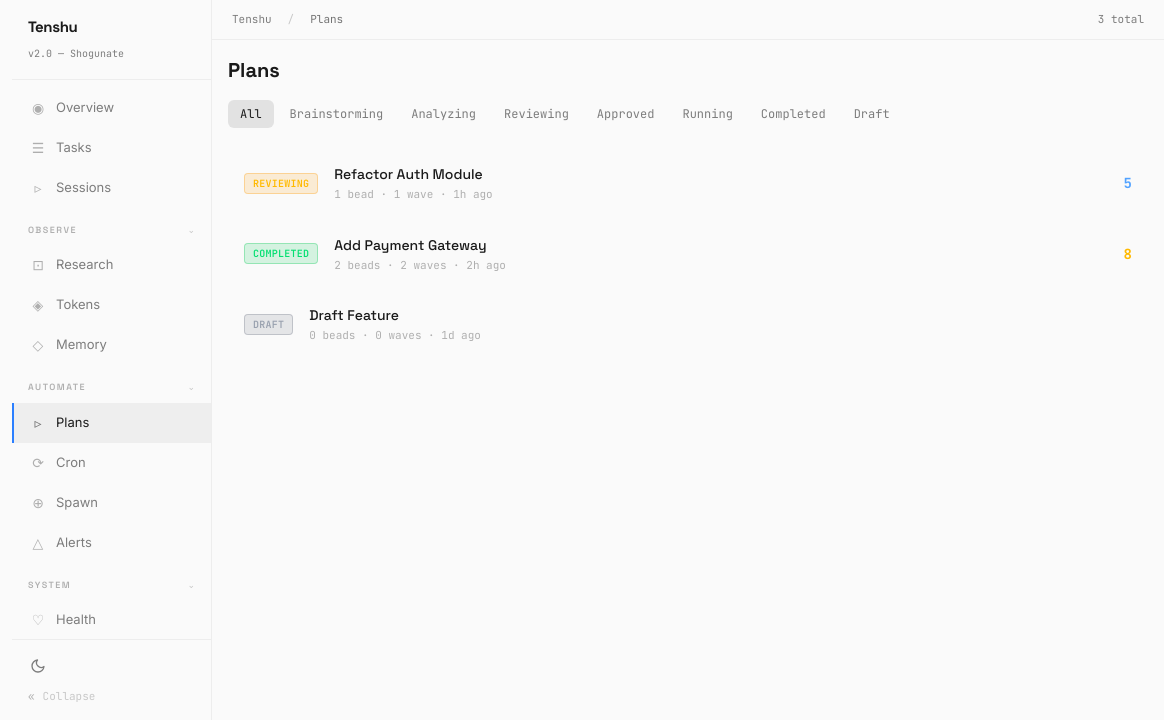
PlansPage › filters plans by status when tab clicked
expect the text "Refactor Auth Module" is shown: met, box [334,165,483,183]
Click the button "Completed".
click(793, 114)  # box [749,100,838,128]
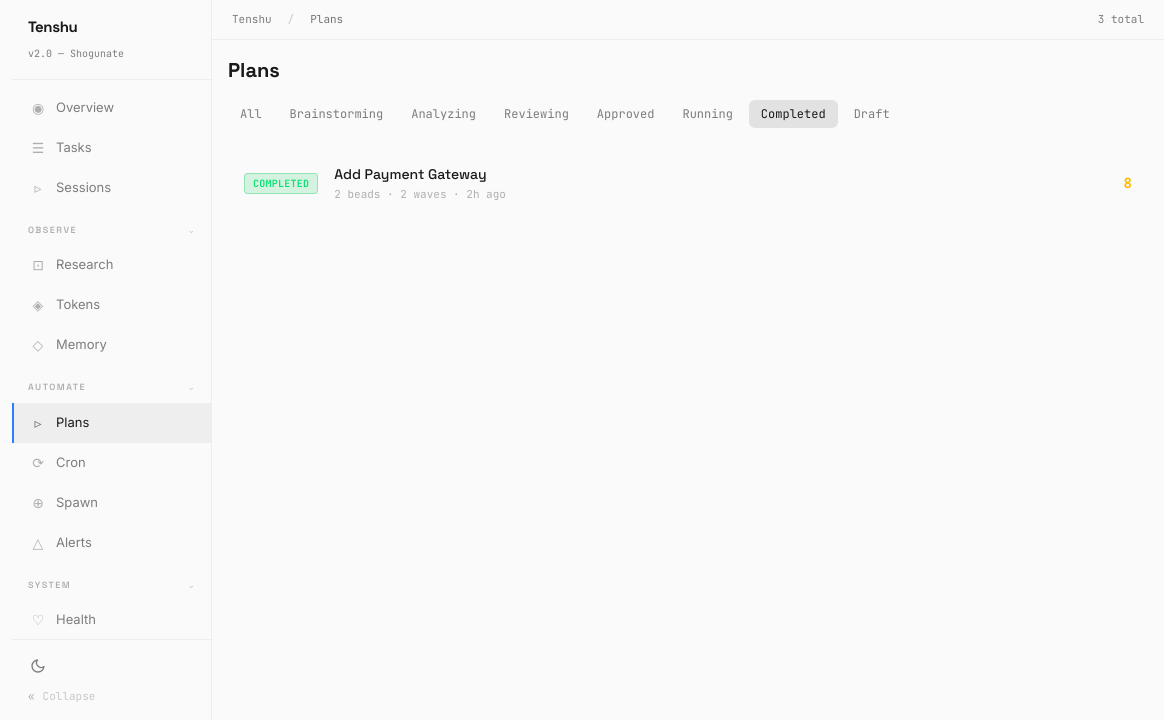
expect the text "Add Payment Gateway" is shown: met, box [334,165,487,183]
expect the link "Refactor Auth Module" is gone: met
expect the link "Draft Feature" is gone: met
